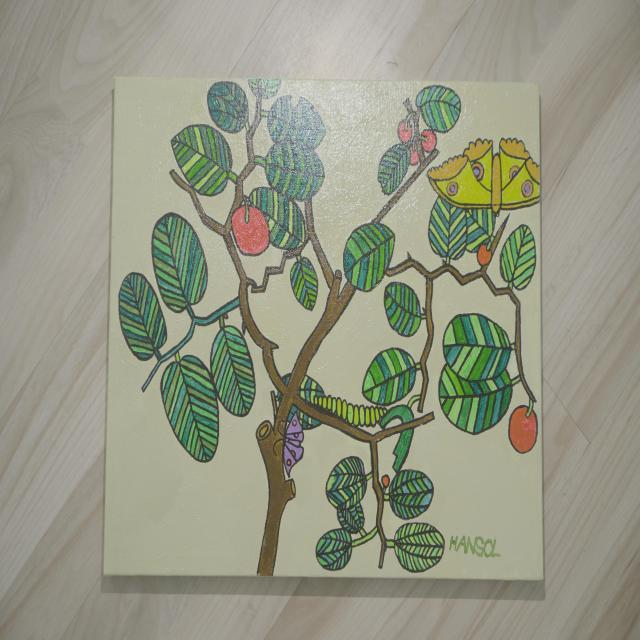painting: (104, 78, 543, 579)
